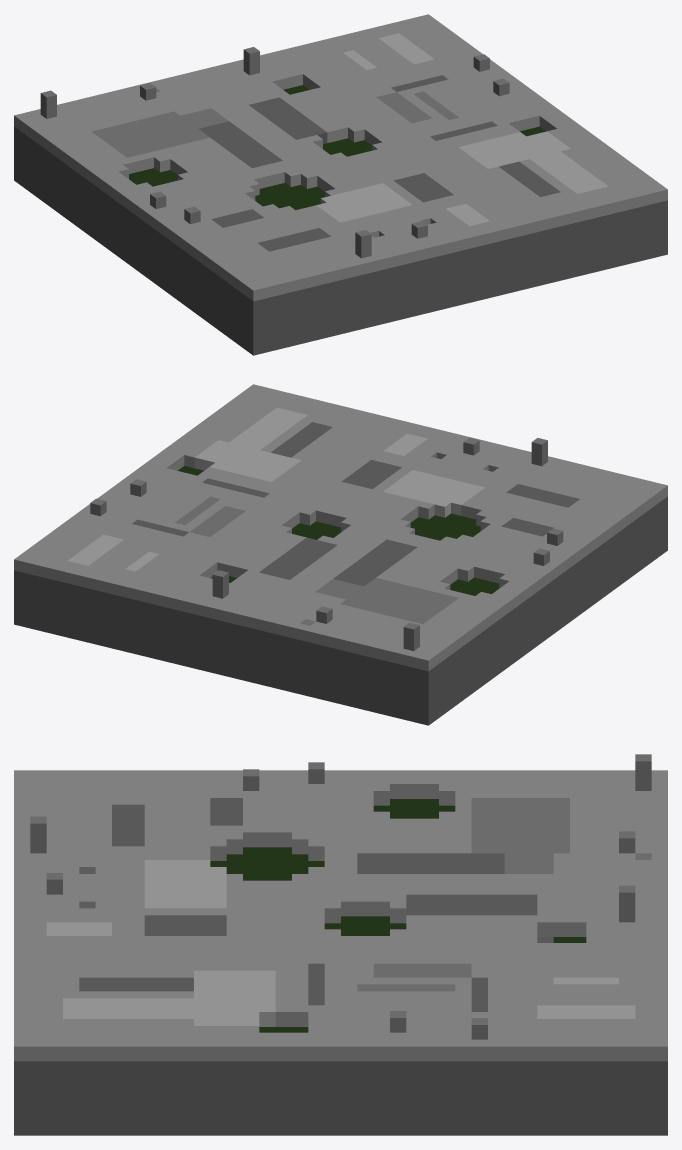
The model's file is SurfaceTile3.obj.
The picture shows the model from 3 angles, top to bottom: view 1: azimuth 30°, elevation 25°; view 2: azimuth 150°, elevation 25°; view 3: azimuth 270°, elevation 25°; orthographic projection. The views are drawn at different scales.
Bounding box in the file's own units: 4 × 0.8 × 4.
1 material, 1 textured.
